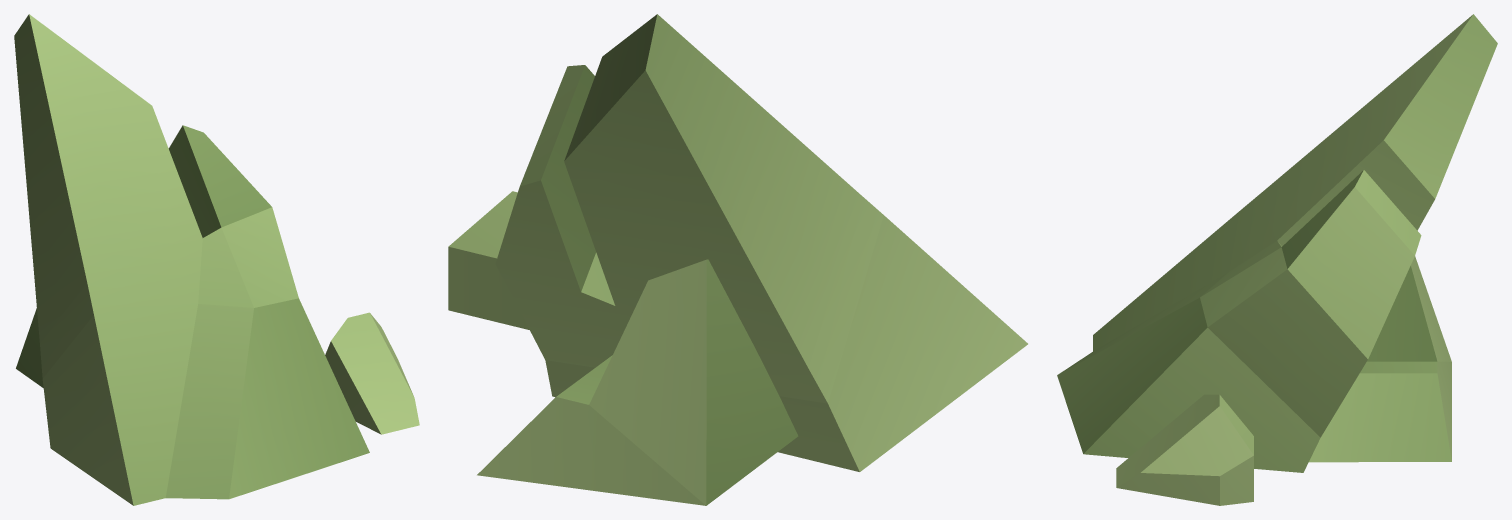
File: Rock.fbx
The picture shows the model from 3 angles, left to right: view 1: azimuth 30°, elevation 25°; view 2: azimuth 150°, elevation 25°; view 3: azimuth 270°, elevation 25°; orthographic projection. The views are drawn at different scales.
Parts seen in each view (by area): view 1: rock_01; view 2: rock_01; view 3: rock_01.
Boxes of the visible parts, bbox=[...] form: rock_01: bbox=[14, 14, 419, 505]; rock_01: bbox=[448, 14, 1027, 505]; rock_01: bbox=[1057, 14, 1497, 505].
Size of the model in its own units: 358 by 381 by 400.
